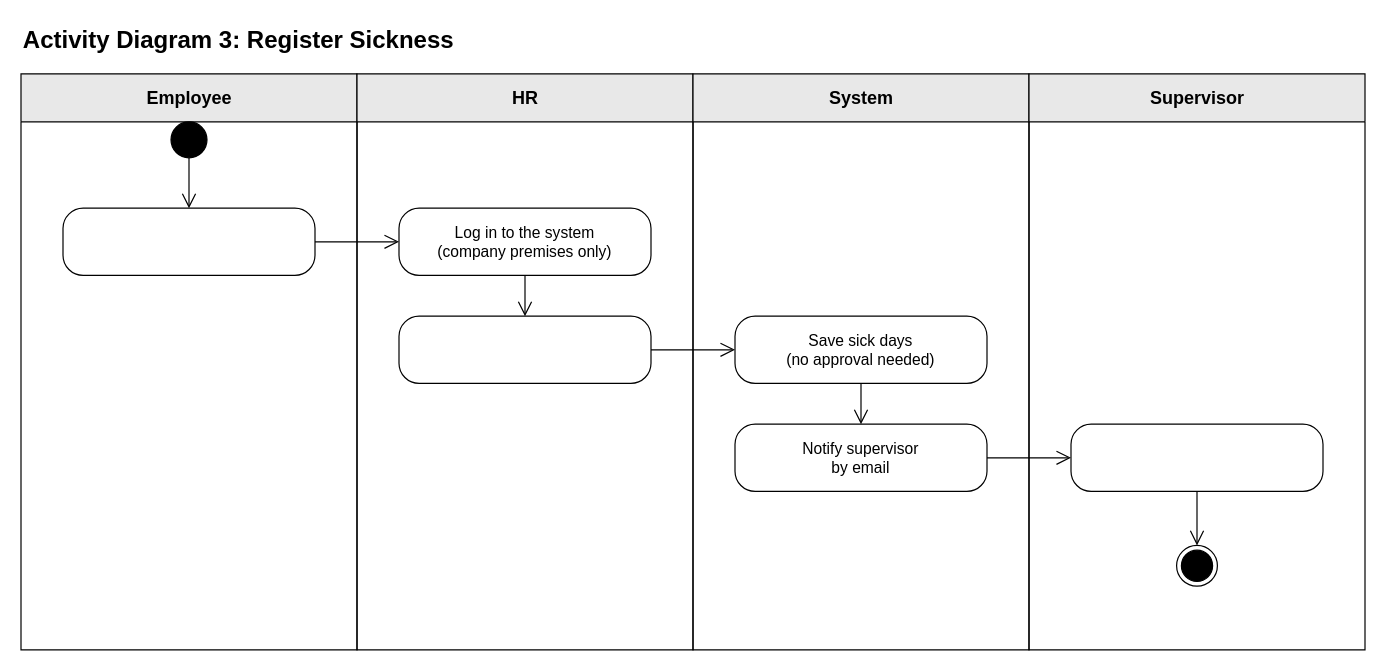
Image size: 1386x671. Some labels were removed from this diagram. The shapes that lost their labels are listed below. From the top down, each one's centre as x and y in pixels, then its label:
point (188, 241): Inform HR about sickness (phone call / email)
point (524, 349): Register sickness for the employee (dates)
point (1196, 457): Receive sickness notification
